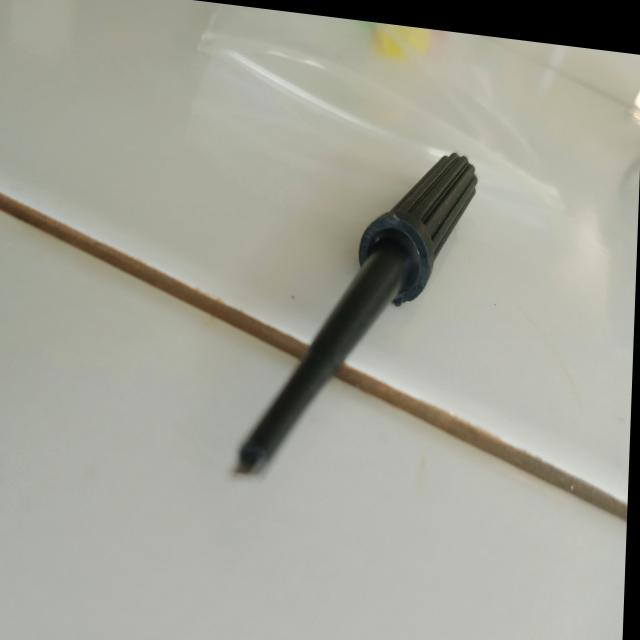Screw Driver: (216, 93, 488, 514)
